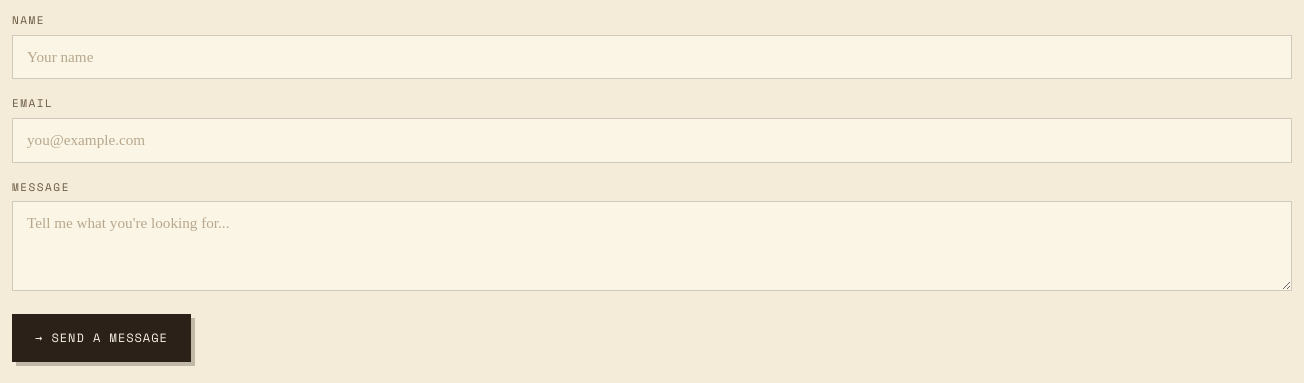
Test: InterestForm › submission › shows submitting state while request is in flight
In the field labelled "Name": [652, 57] box [12,34,1292,79], type "Jane Doe"
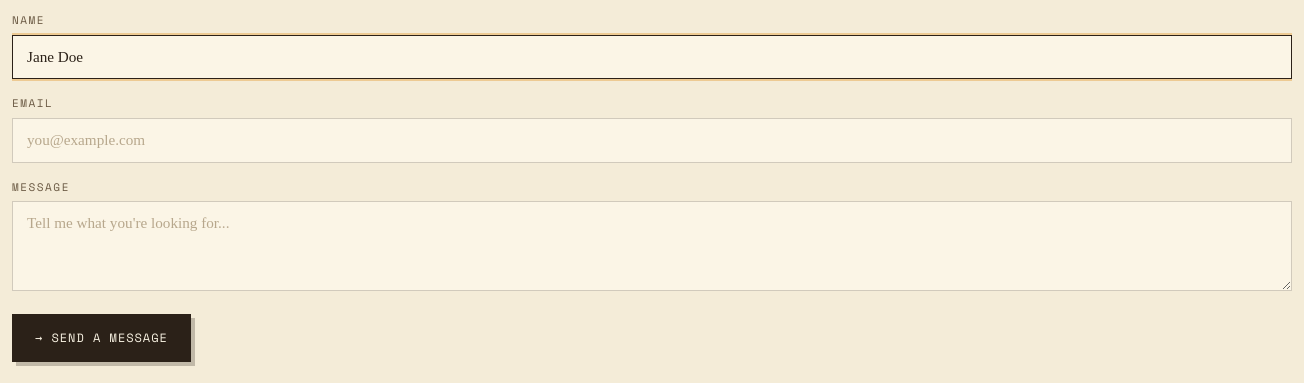
In the field labelled "Email": [652, 140] box [12,118,1292,163], type "jane@example.com"
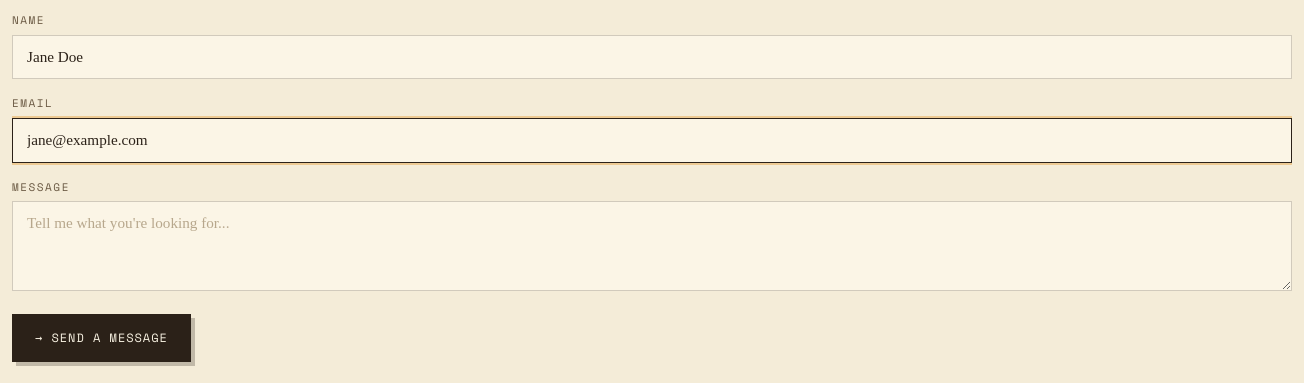
In the text box labelled "Message": [652, 246] box [12,201,1292,291], type "Hello there!"
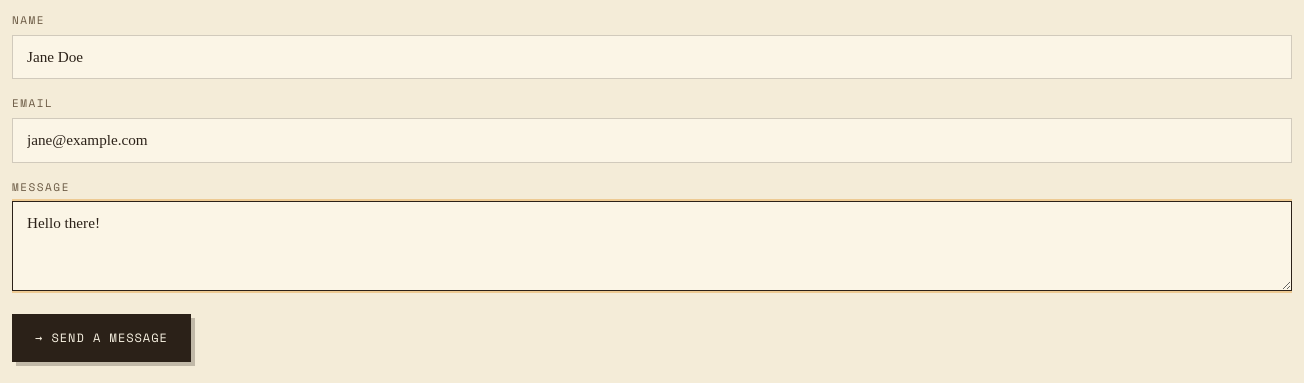
Click the button "→ SEND A MESSAGE": [101, 338] box [12,314,191,362]
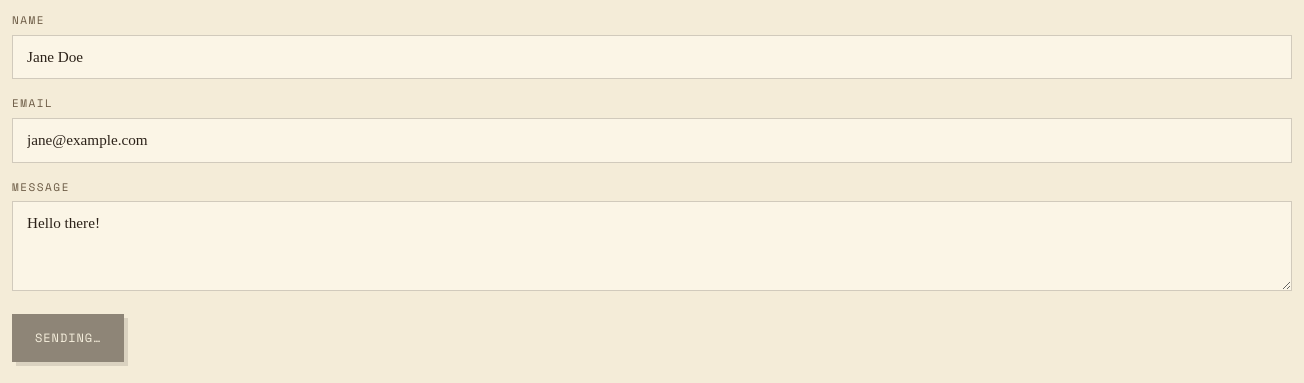
Check: the button "SENDING…" is disabled, box [12,314,124,362]
